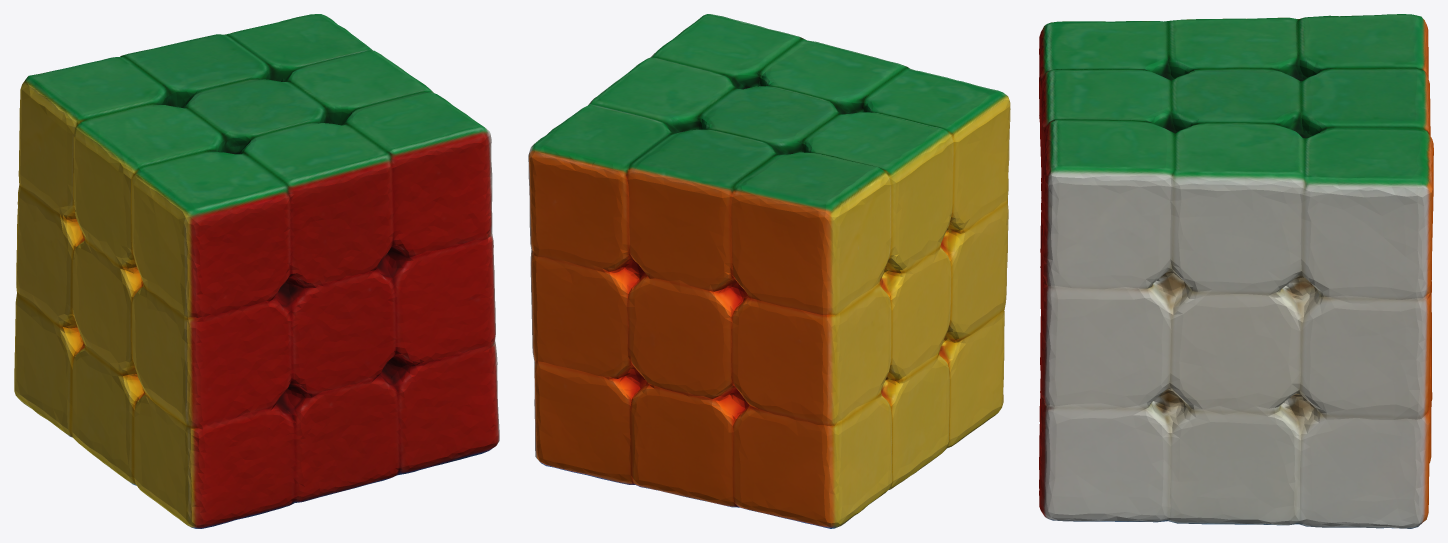
Rendered from rubiks_cube.glb.
3 views of the same model, side by side, from view 1: azimuth 30°, elevation 25°; view 2: azimuth 150°, elevation 25°; view 3: azimuth 270°, elevation 25° (orthographic). The views are drawn at different scales.
Parts seen in each view (by area): view 1: textured.obj; view 2: textured.obj; view 3: textured.obj.
Part boxes in pixels (<box>): textured.obj: <box>14,14,499,528</box>; textured.obj: <box>528,14,1010,528</box>; textured.obj: <box>1039,14,1433,528</box>.
Bounding box in the file's own units: 0.0581 × 0.0588 × 0.0579.
1 material, 1 textured.
